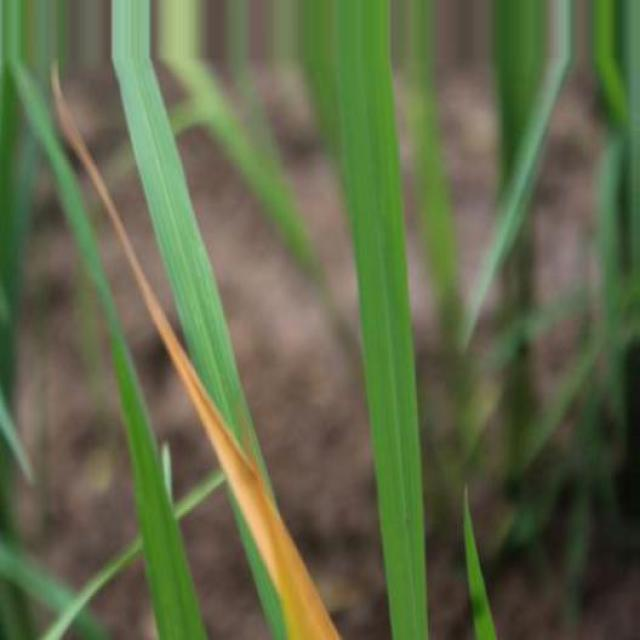Rice Tungro: (59, 103, 340, 638)
